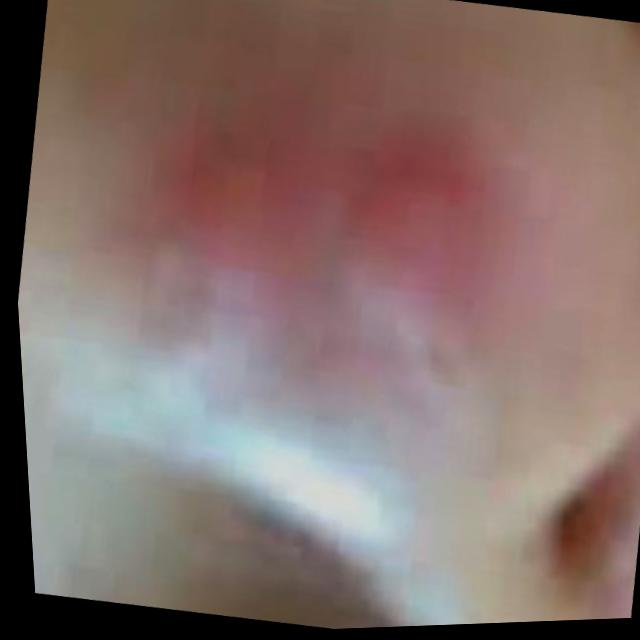nodule: (148, 98, 489, 382)
